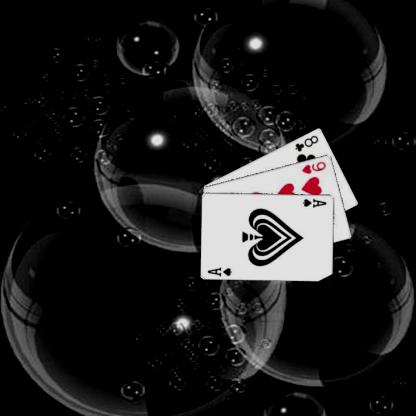8C: (292, 132, 320, 152)
9H: (299, 158, 327, 175)
AS: (205, 264, 233, 278), (300, 196, 328, 209)
